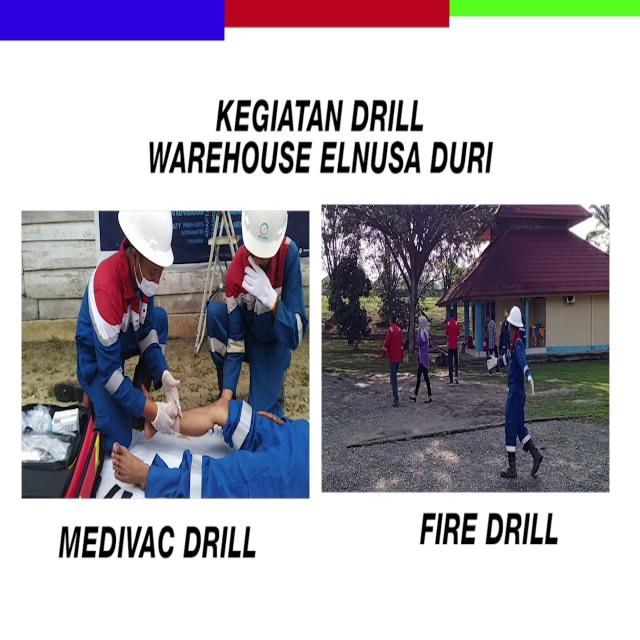Gloves: (242, 254, 276, 313), (161, 372, 182, 410), (150, 408, 174, 437), (487, 354, 498, 372), (527, 374, 537, 393)
Hardhat: (118, 212, 174, 264), (240, 210, 290, 255), (506, 301, 524, 328)
Mask: (133, 275, 159, 298)
No Hardhat: (416, 313, 426, 322), (388, 312, 396, 320), (448, 308, 455, 314)
No Overall Suit: (385, 324, 403, 398), (414, 330, 431, 397), (447, 320, 460, 377)
No Safety Boots: (110, 443, 150, 492)
Overall Suit: (76, 267, 168, 451), (204, 246, 307, 409), (148, 405, 308, 497), (496, 337, 530, 451)
Safety Boots: (528, 440, 543, 475), (498, 452, 518, 478)
